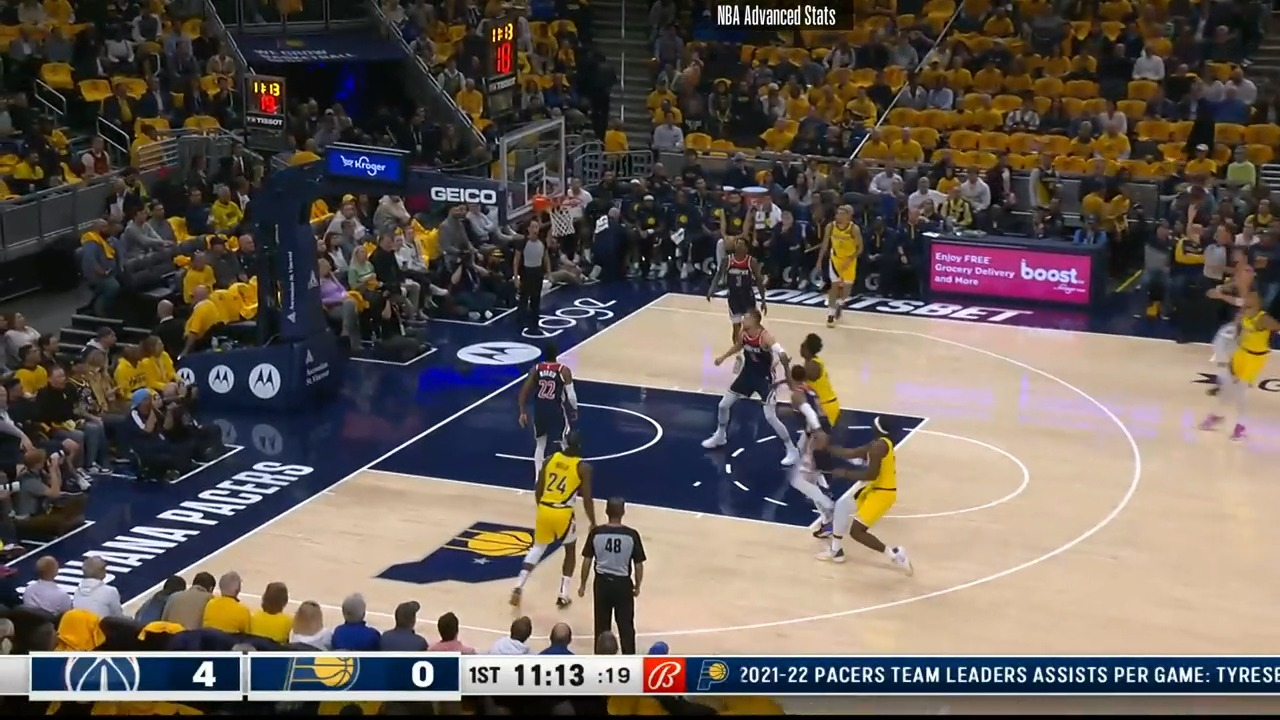net: (532, 191, 590, 238)
player: (805, 416, 912, 578), (510, 432, 599, 618), (778, 349, 853, 540), (701, 304, 789, 461), (1181, 291, 1265, 448), (517, 340, 582, 497), (706, 236, 764, 368), (812, 201, 865, 334)
referee: (560, 500, 641, 657), (515, 216, 556, 335)
